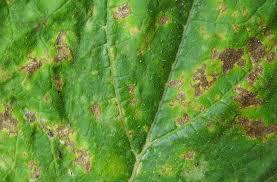Bok-Choy-Diseased: (2, 5, 277, 182)
